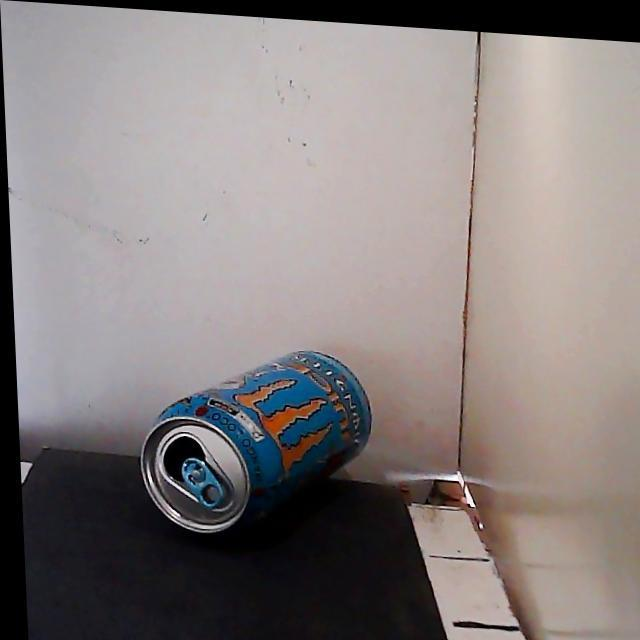metal: (141, 351, 371, 532)
